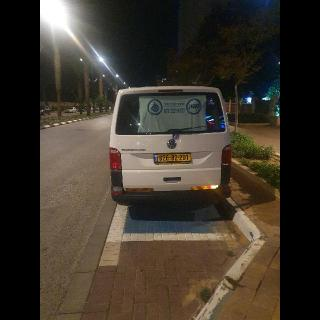LicensePlate: (158, 155, 190, 162)
